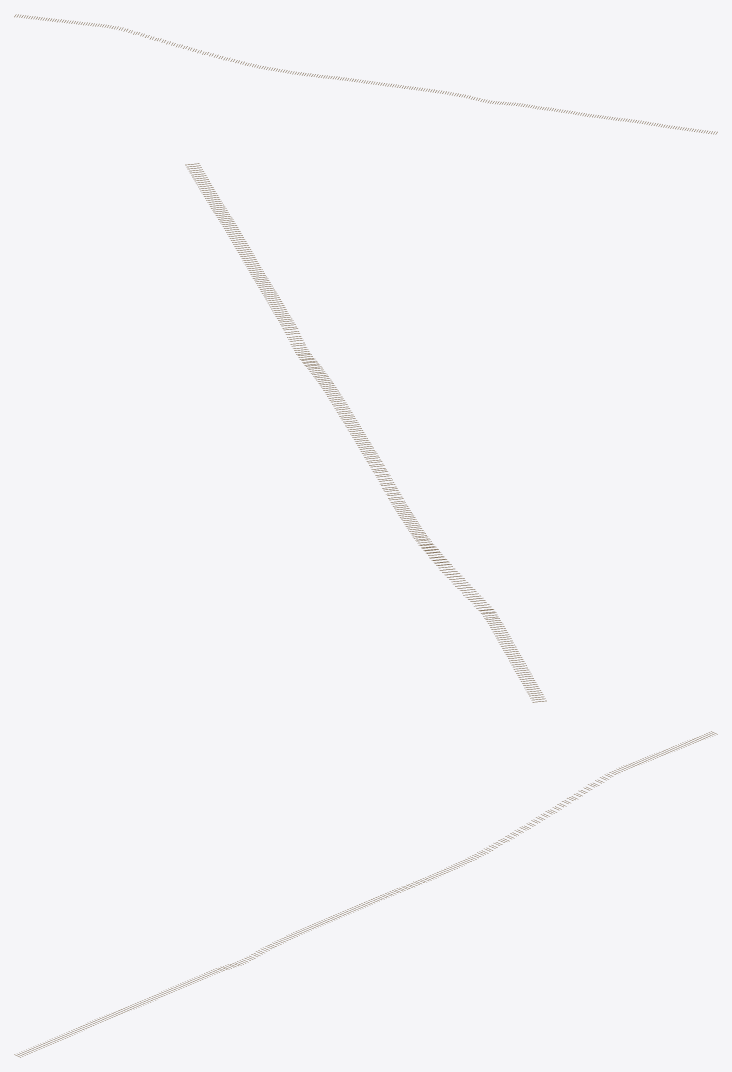
File: c_1623_17826_rail_sleeper.glb
3 renders of one model, top to bottom at view 1: azimuth 30°, elevation 25°; view 2: azimuth 150°, elevation 25°; view 3: azimuth 270°, elevation 25°, orthographic. The views are drawn at different scales.
Visible parts, largest first — view 1: geometry_0; view 2: geometry_0; view 3: geometry_0.
Boxes of the visible parts, bbox=[...] form: geometry_0: bbox=[14, 14, 717, 134]; geometry_0: bbox=[185, 163, 546, 702]; geometry_0: bbox=[14, 731, 717, 1057].
Bounding box in the file's own units: 165 × 11.41 × 172.
